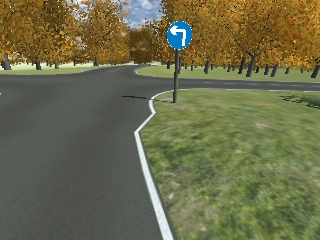left: (164, 19, 192, 49)
